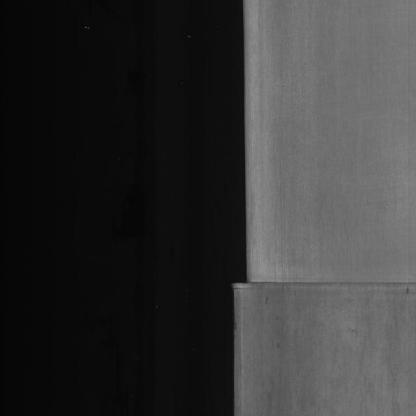welding_line: (231, 272, 416, 300)
